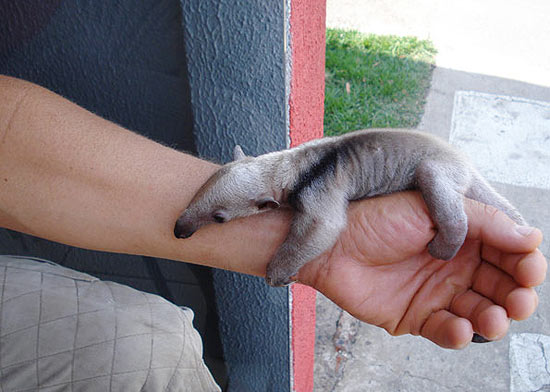TamanduaBandeira: (167, 125, 536, 286)
